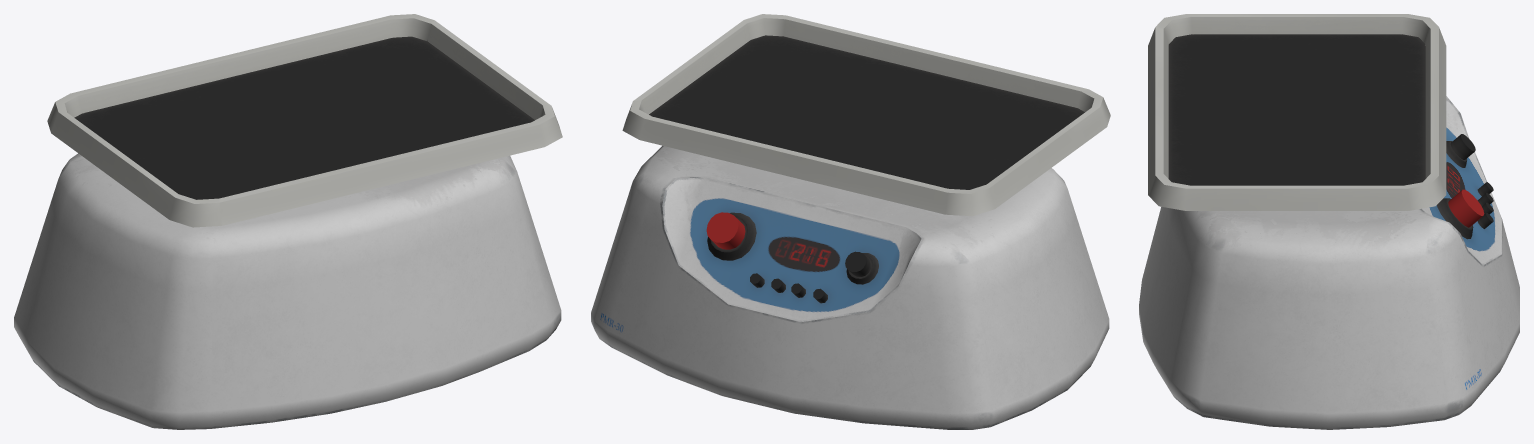
File: 平台摇床.glb
3 renders of one model, left to right at view 1: azimuth 30°, elevation 25°; view 2: azimuth 150°, elevation 25°; view 3: azimuth 270°, elevation 25°, orthographic. The views are drawn at different scales.
Visible parts, largest first — view 1: 平台摇床; view 2: 平台摇床; view 3: 平台摇床.
Boxes of the visible parts, <box> form: 平台摇床: <box>14,14,562,429</box>; 平台摇床: <box>591,14,1110,429</box>; 平台摇床: <box>1139,14,1519,429</box>.
Bounding box in the file's own units: 0.8058 × 0.385 × 0.598.
1 material, 1 textured.
